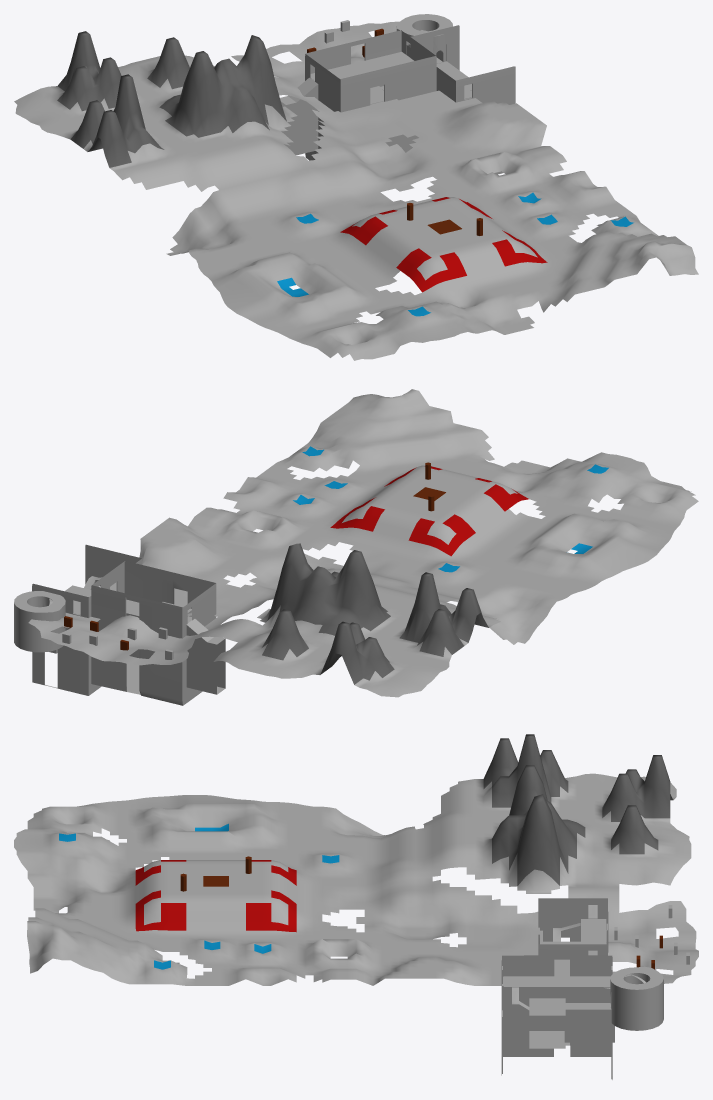
File: DareahLevelExport.fbx
3 views of the same model, one above another, from view 1: azimuth 30°, elevation 25°; view 2: azimuth 150°, elevation 25°; view 3: azimuth 270°, elevation 25° (orthographic). The views are drawn at different scales.
Parts seen in each view (by area): view 1: pCube28; view 2: pCube28; view 3: pCube28.
Part boxes in pixels (bbox=[...]): pCube28: bbox=[14, 14, 698, 360]; pCube28: bbox=[14, 389, 698, 705]; pCube28: bbox=[14, 734, 698, 1079].
Bounding box in the file's own units: 59.04 × 22.81 × 80.7.
